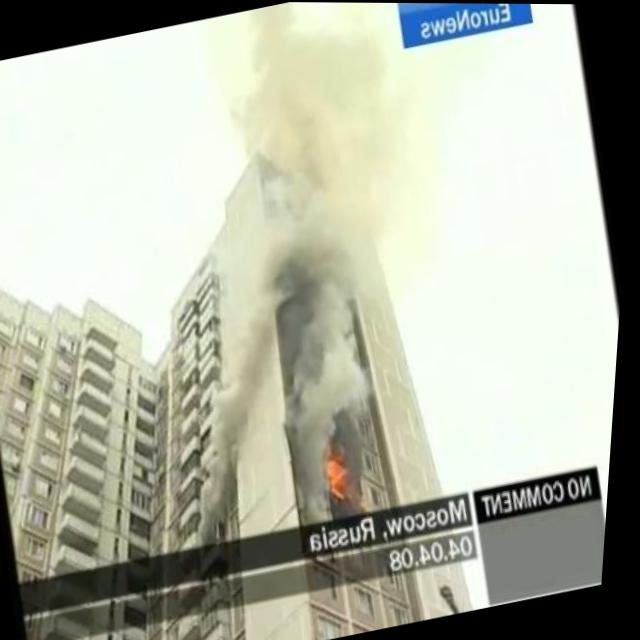fire: (323, 449, 362, 503)
